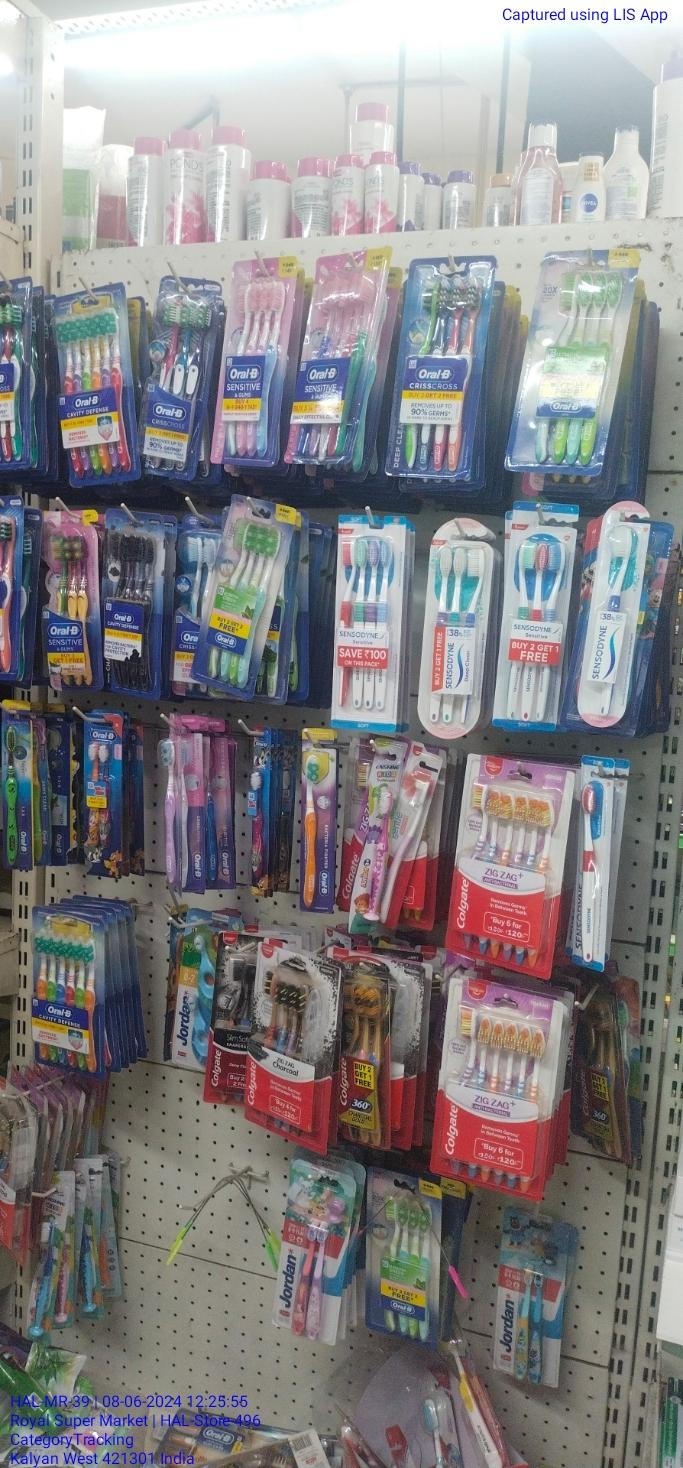10: (291, 248, 363, 463), (220, 259, 282, 466)
14: (334, 514, 401, 732)
15: (495, 498, 562, 731)
5: (419, 517, 475, 739)
liquid soap: (251, 942, 335, 1149)
